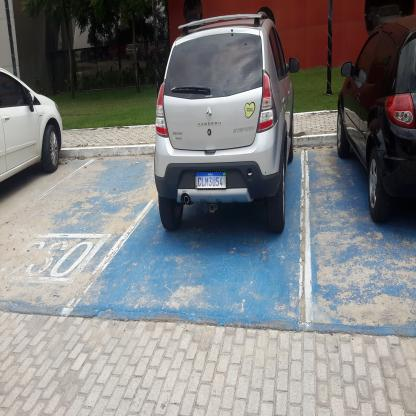PlacaM: (195, 171, 226, 189)
